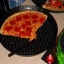pepperoni: (6, 18, 22, 32), (12, 27, 34, 36), (19, 15, 31, 29)
pizza: (1, 11, 49, 36)
